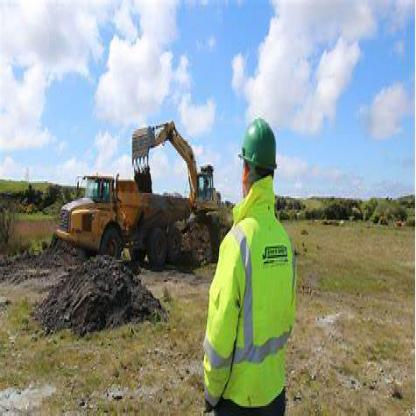person: (188, 99, 302, 414)
